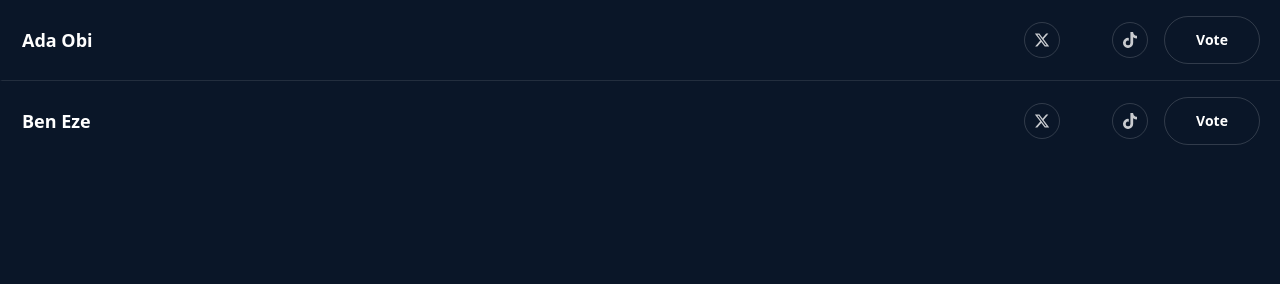
Test: BallotRow › opens the form in place, says the rule that matters at that moment, and moves focus to it
Click the button with aria-label "Vote for Ada Obi" at (1212, 40), box [1164,16,1260,64]
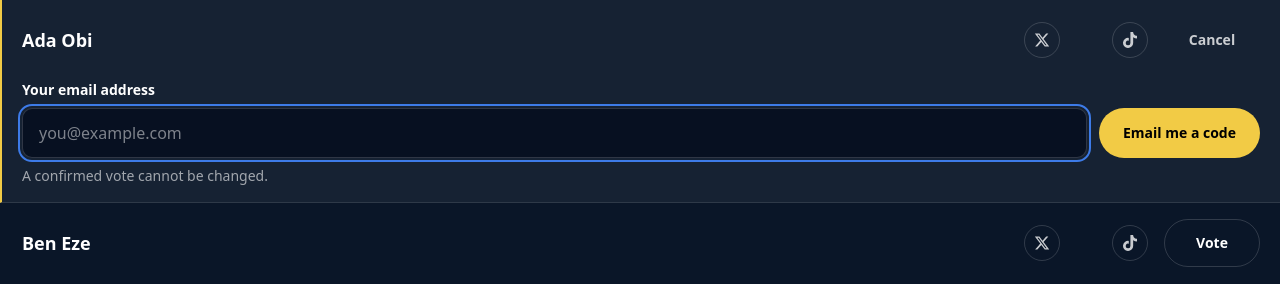
Now the text "A confirmed vote cannot be changed." is shown, box [22,166,268,185]
